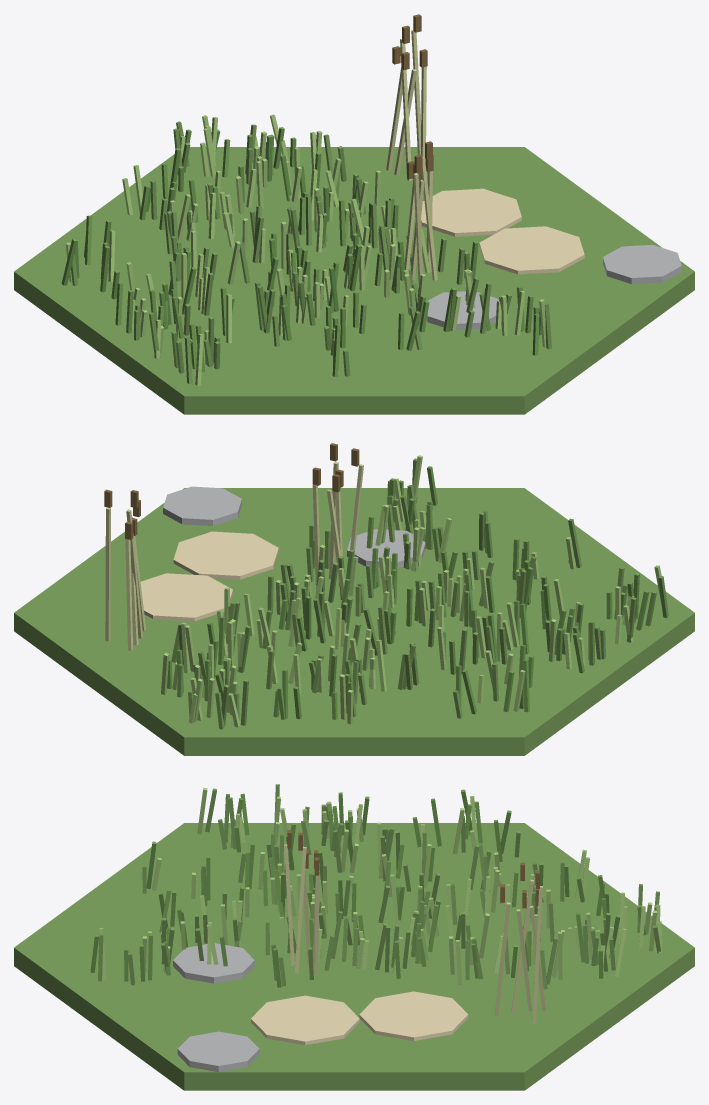
Rendered from grass_to_water.glb.
The picture shows the model from 3 angles, top to bottom: view 1: azimuth 30°, elevation 25°; view 2: azimuth 150°, elevation 25°; view 3: azimuth 270°, elevation 25°; orthographic projection.
Parts seen in each view (by area): view 1: plate; view 2: plate; view 3: plate.
Boxes of the visible parts, x1,y1,x2,y2 form: plate: [14, 14, 694, 414]; plate: [14, 443, 694, 755]; plate: [14, 784, 694, 1090].
Size of the model in its own units: 1.73 by 0.5492 by 2.
